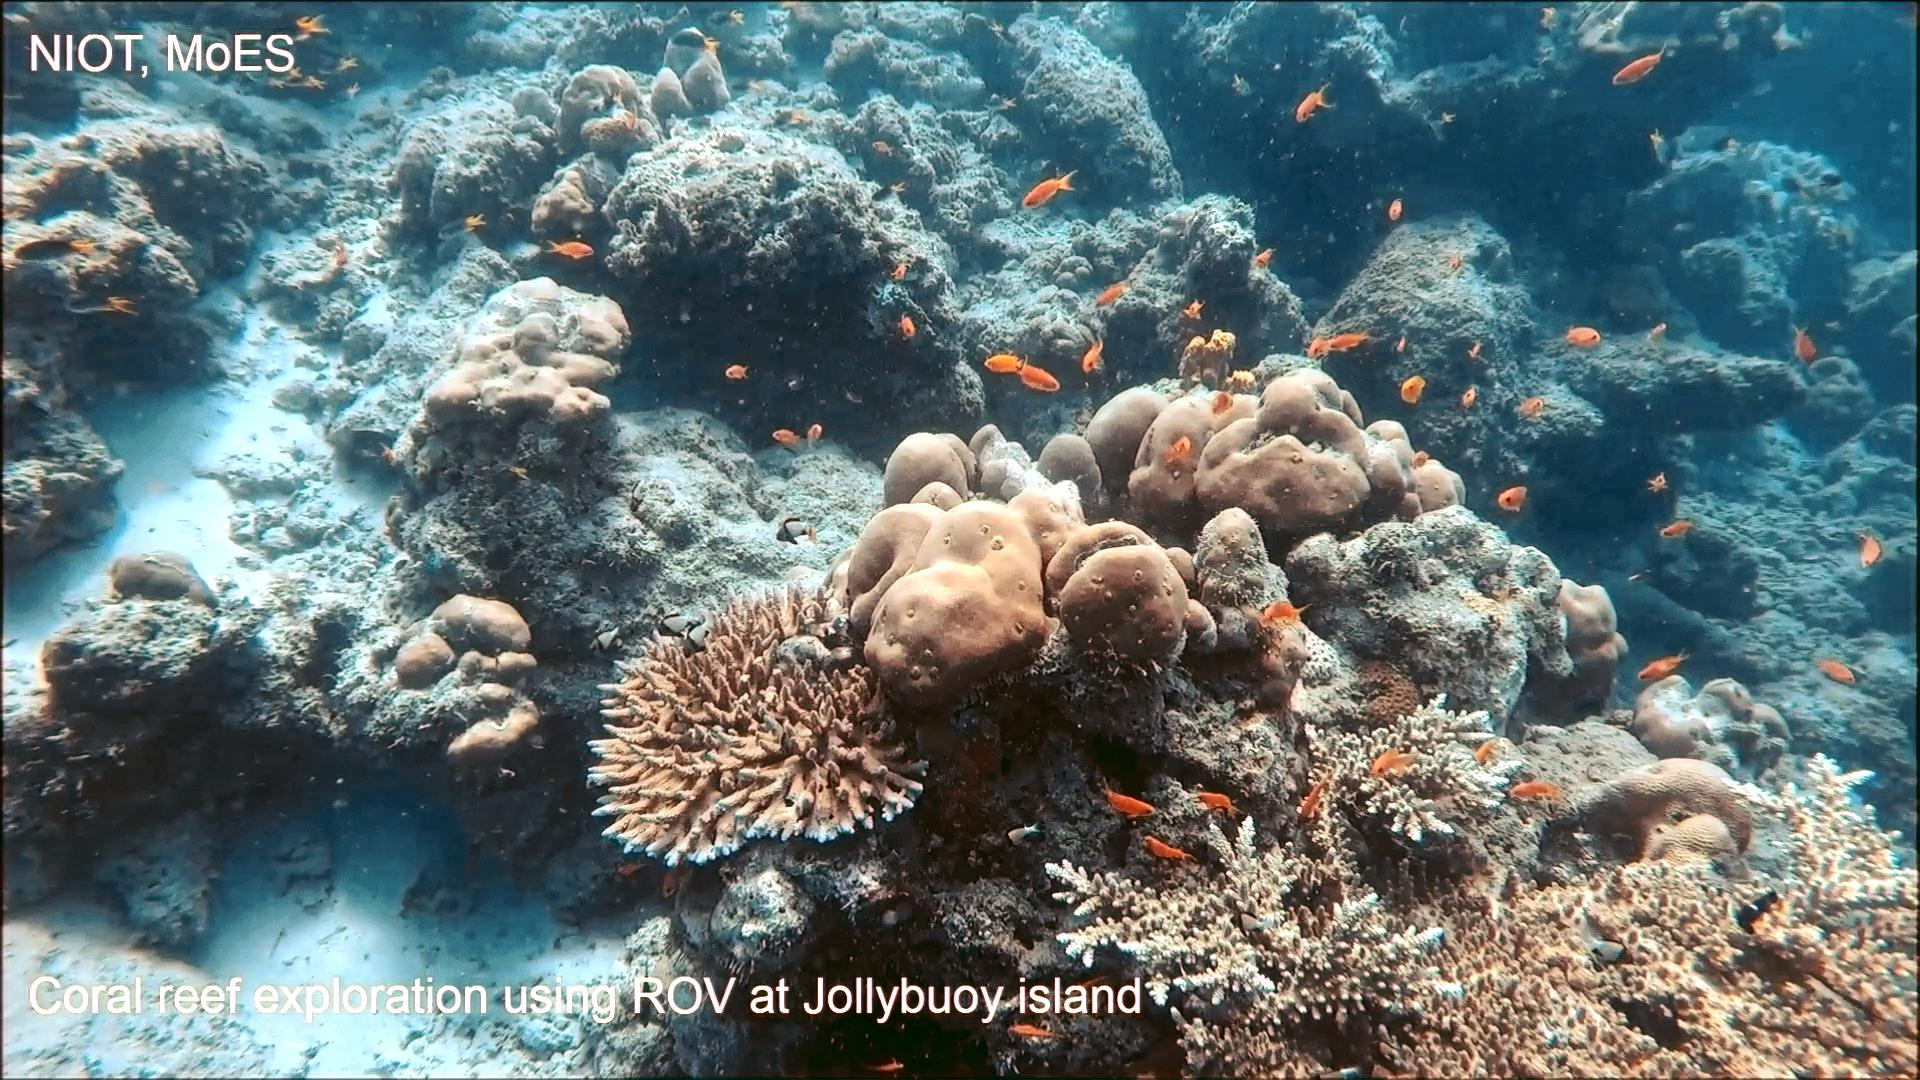Porites-Porites pukoensis: (816, 419, 1192, 724), (1068, 360, 1469, 539)
